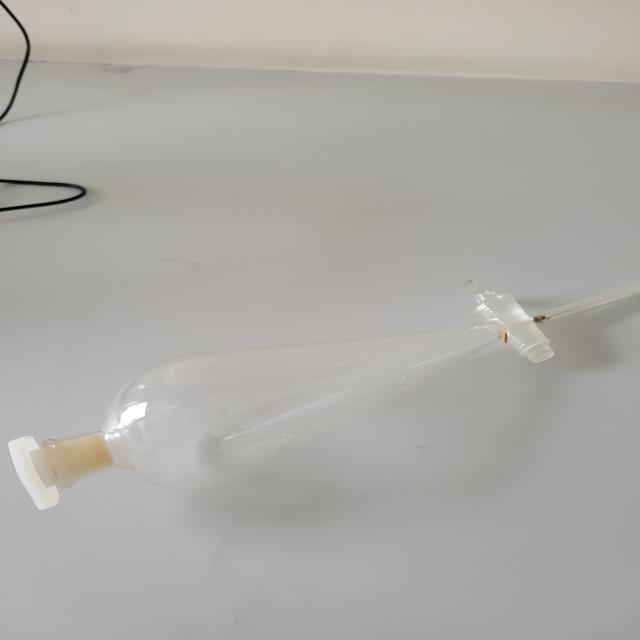Separating_Funnel: (0, 280, 640, 550)
